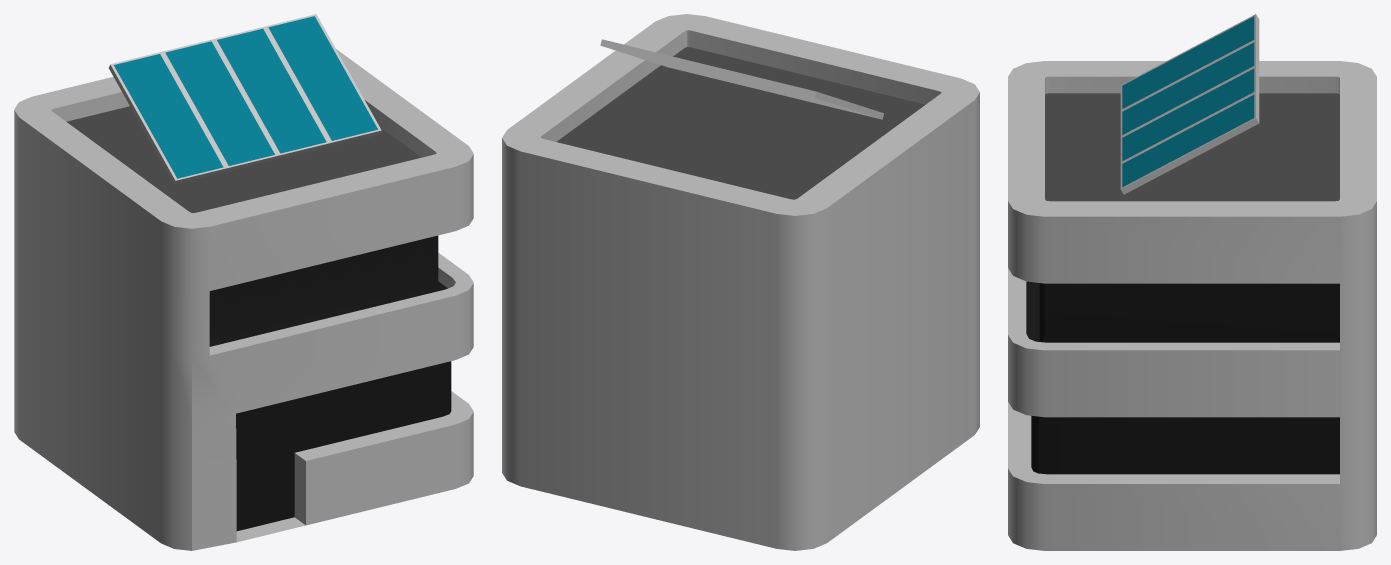
The model's file is Building-OneTile.fbx.
3 views of the same model, side by side, from view 1: azimuth 30°, elevation 25°; view 2: azimuth 150°, elevation 25°; view 3: azimuth 270°, elevation 25° (orthographic). The views are drawn at different scales.
Parts seen in each view (by area): view 1: Building-OneTile; view 2: Building-OneTile; view 3: Building-OneTile.
Part boxes in pixels (x1,y1,x2,y2): Building-OneTile: [14, 14, 473, 550]; Building-OneTile: [502, 14, 979, 550]; Building-OneTile: [1008, 14, 1376, 550].
Size of the model in its own units: 100 by 122 by 100.
